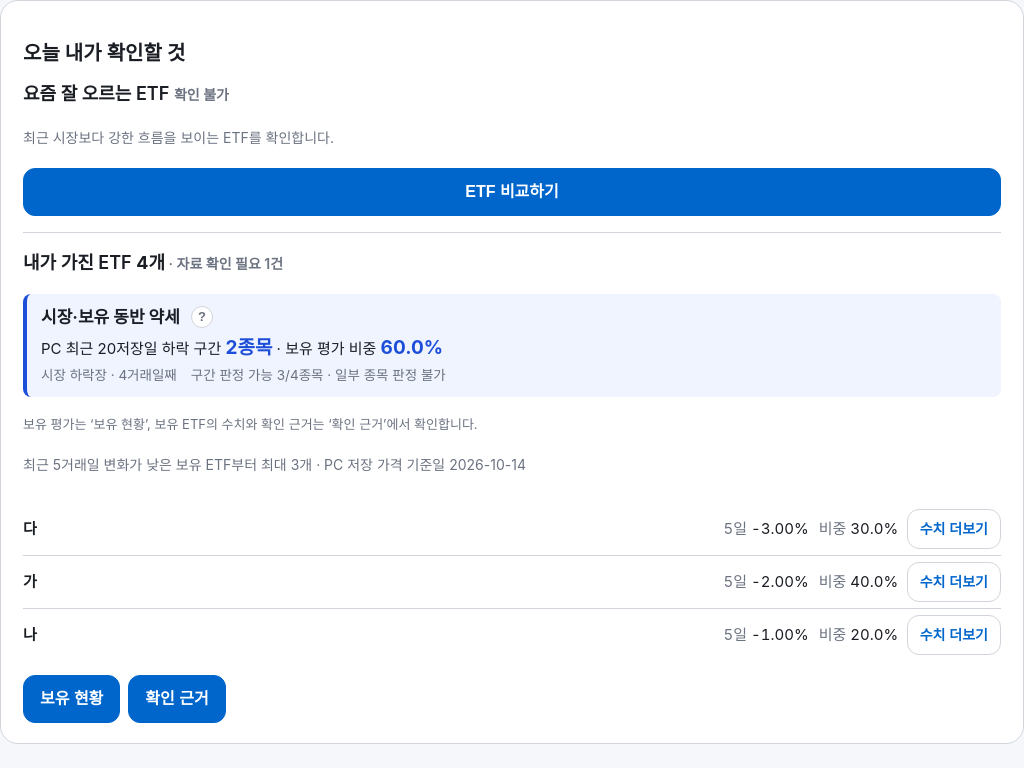
오늘 — 보유 칸 현재 상태 띠 (POC5-15 · 세 묶음) › 일부 종목 판정 불가는 기본 화면에 보이고 · ? 안에 그 제한 문단이 있다
Expected: the element with class "tc-risk-head" reads "시장·보유 동반 약세 ?", [41,307,180,327]
Click the button named "현재 상태 도움말".
click(202, 317)  # box [182,297,222,337]
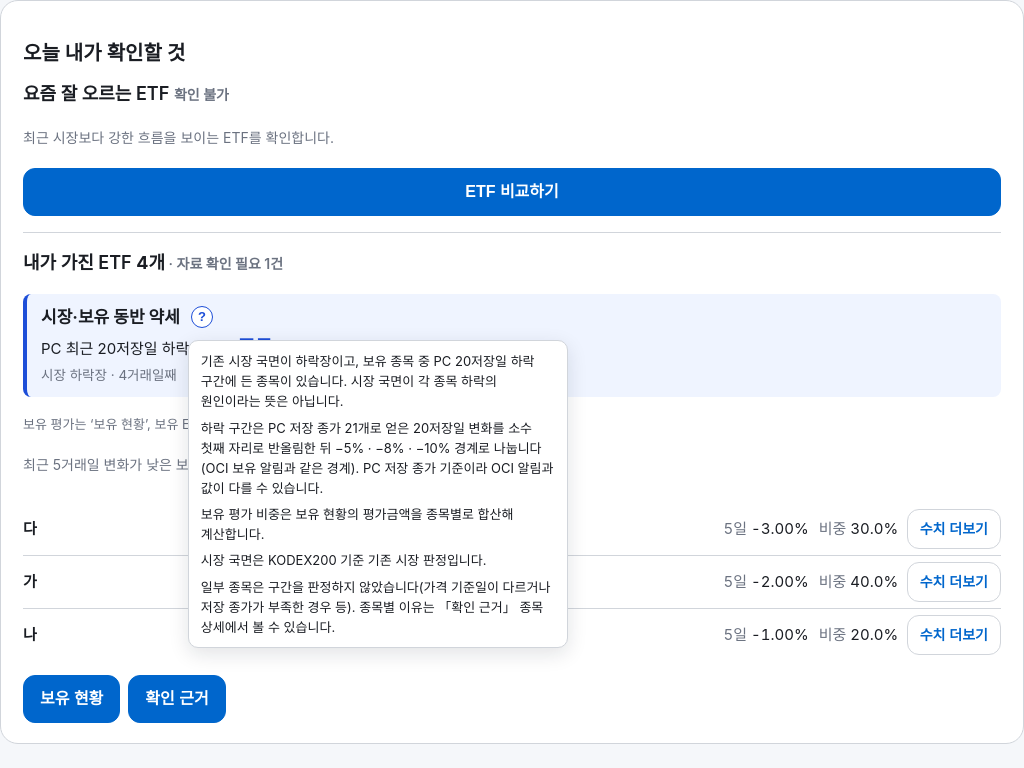
Expected: the dialog named "현재 상태 도움말" shows "하락 구간은 PC 저장 종가 21개로 얻은 20저장일 변화를 소수 첫째 자리로 반올림한 뒤 −5% · −8% · −10% 경계로 나눕니다(OCI 보유 알림과 같은 경계). PC 저장 종가 기준이라 OCI 알림과 값이 다를 수 있습니다.", [201,420,554,496]
